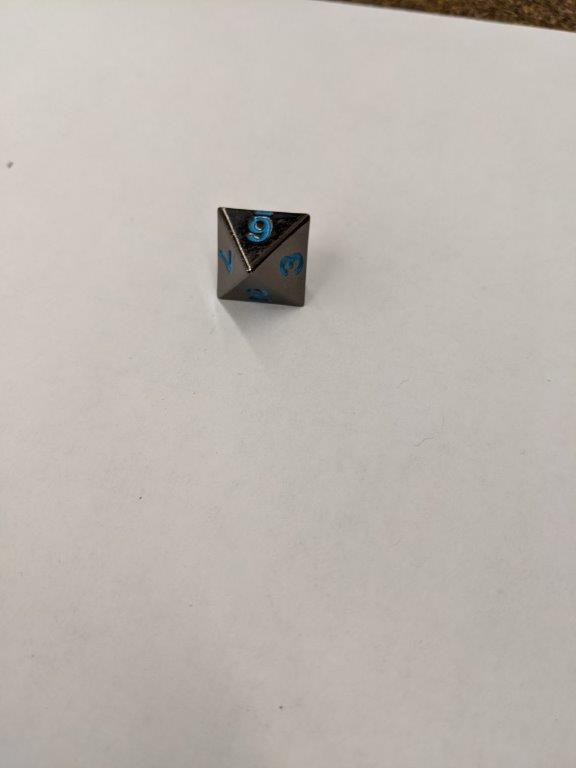d8-6: (214, 203, 313, 312)
